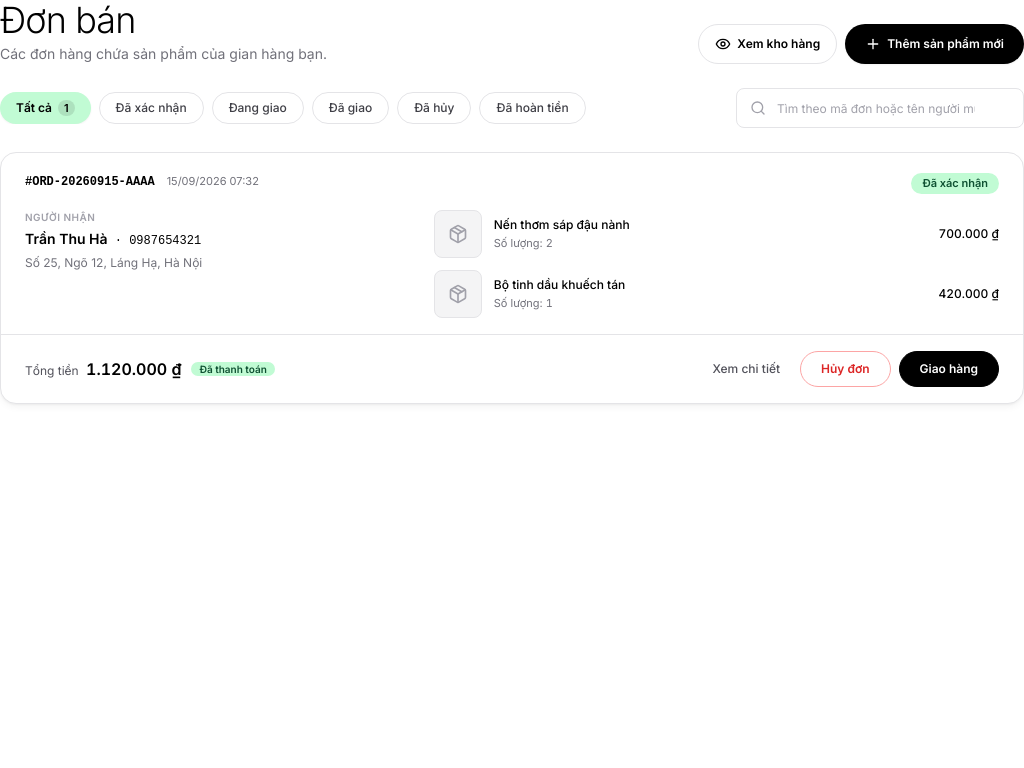
Test case: SellerOrdersPage › Giao hàng: mở dialog xác nhận rồi gọi PATCH status=shipping
Click the button with test id "action-ship": click(949, 369) [899, 351, 999, 387]
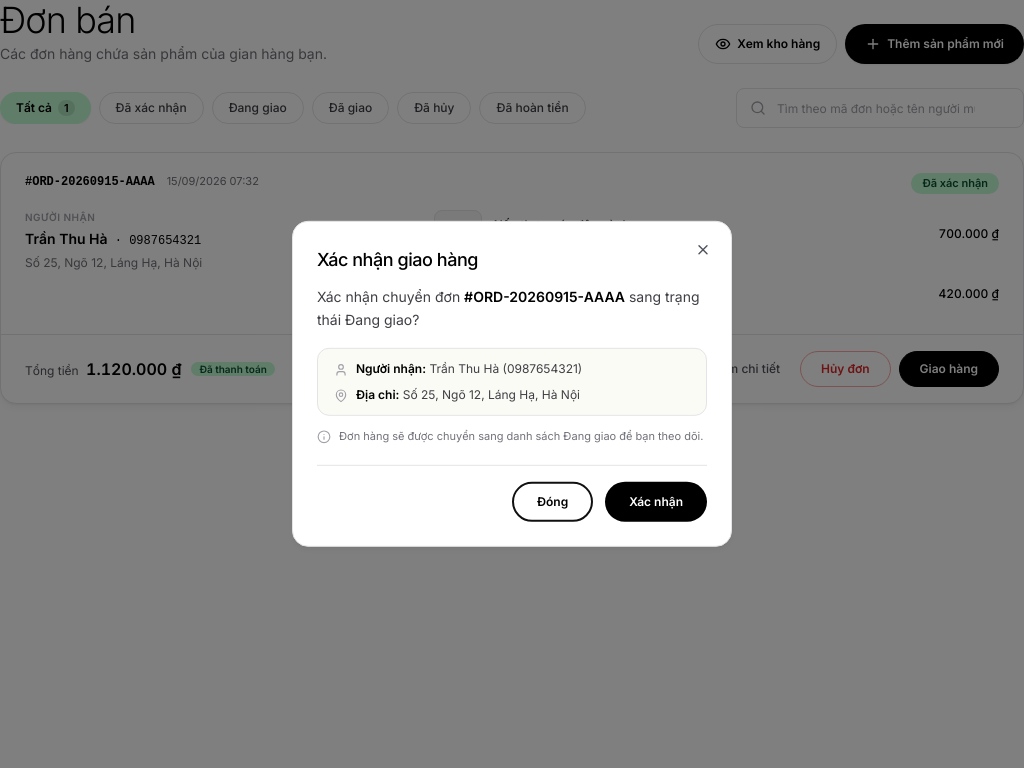
expect the heading "Xác nhận giao hàng" is shown: met, box [317, 249, 478, 270]
expect the text "Người nhận: Trần Thu Hà (0987654321)" is shown: met, box [356, 360, 582, 376]
Click the button "Xác nhận": click(656, 502) [605, 482, 707, 522]
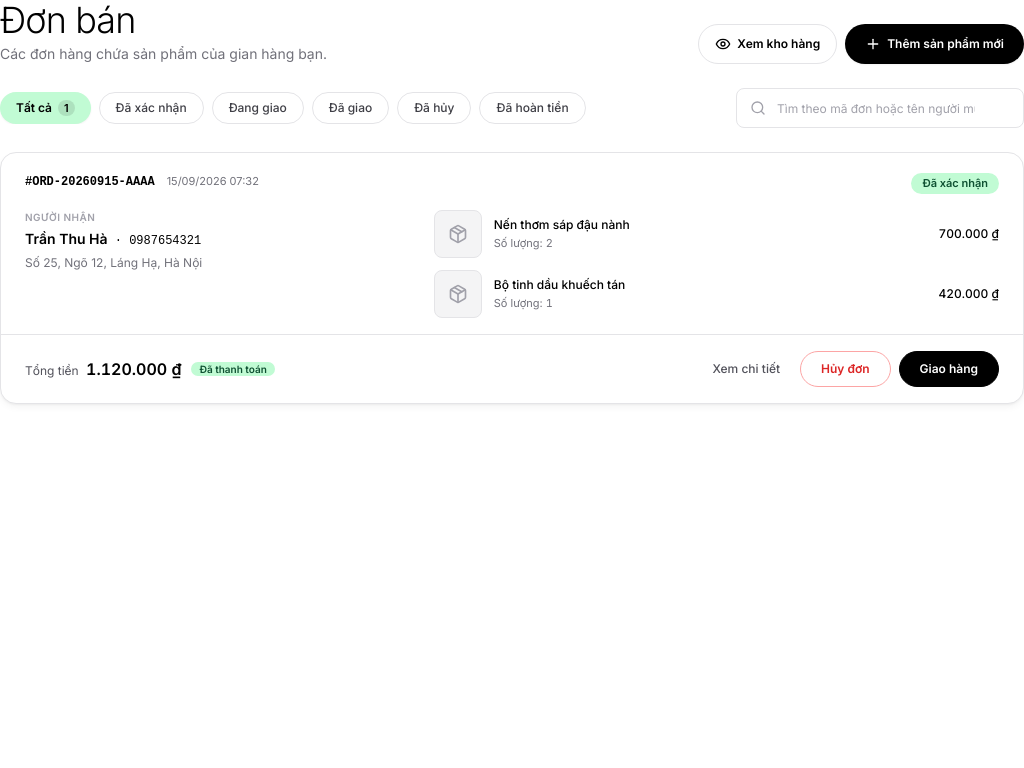
expect the dialog with test id "confirm-status-dialog" is gone: met
